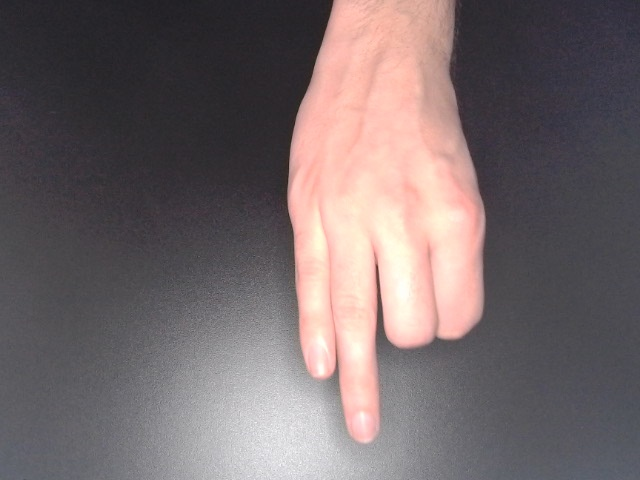n: (279, 2, 494, 451)
